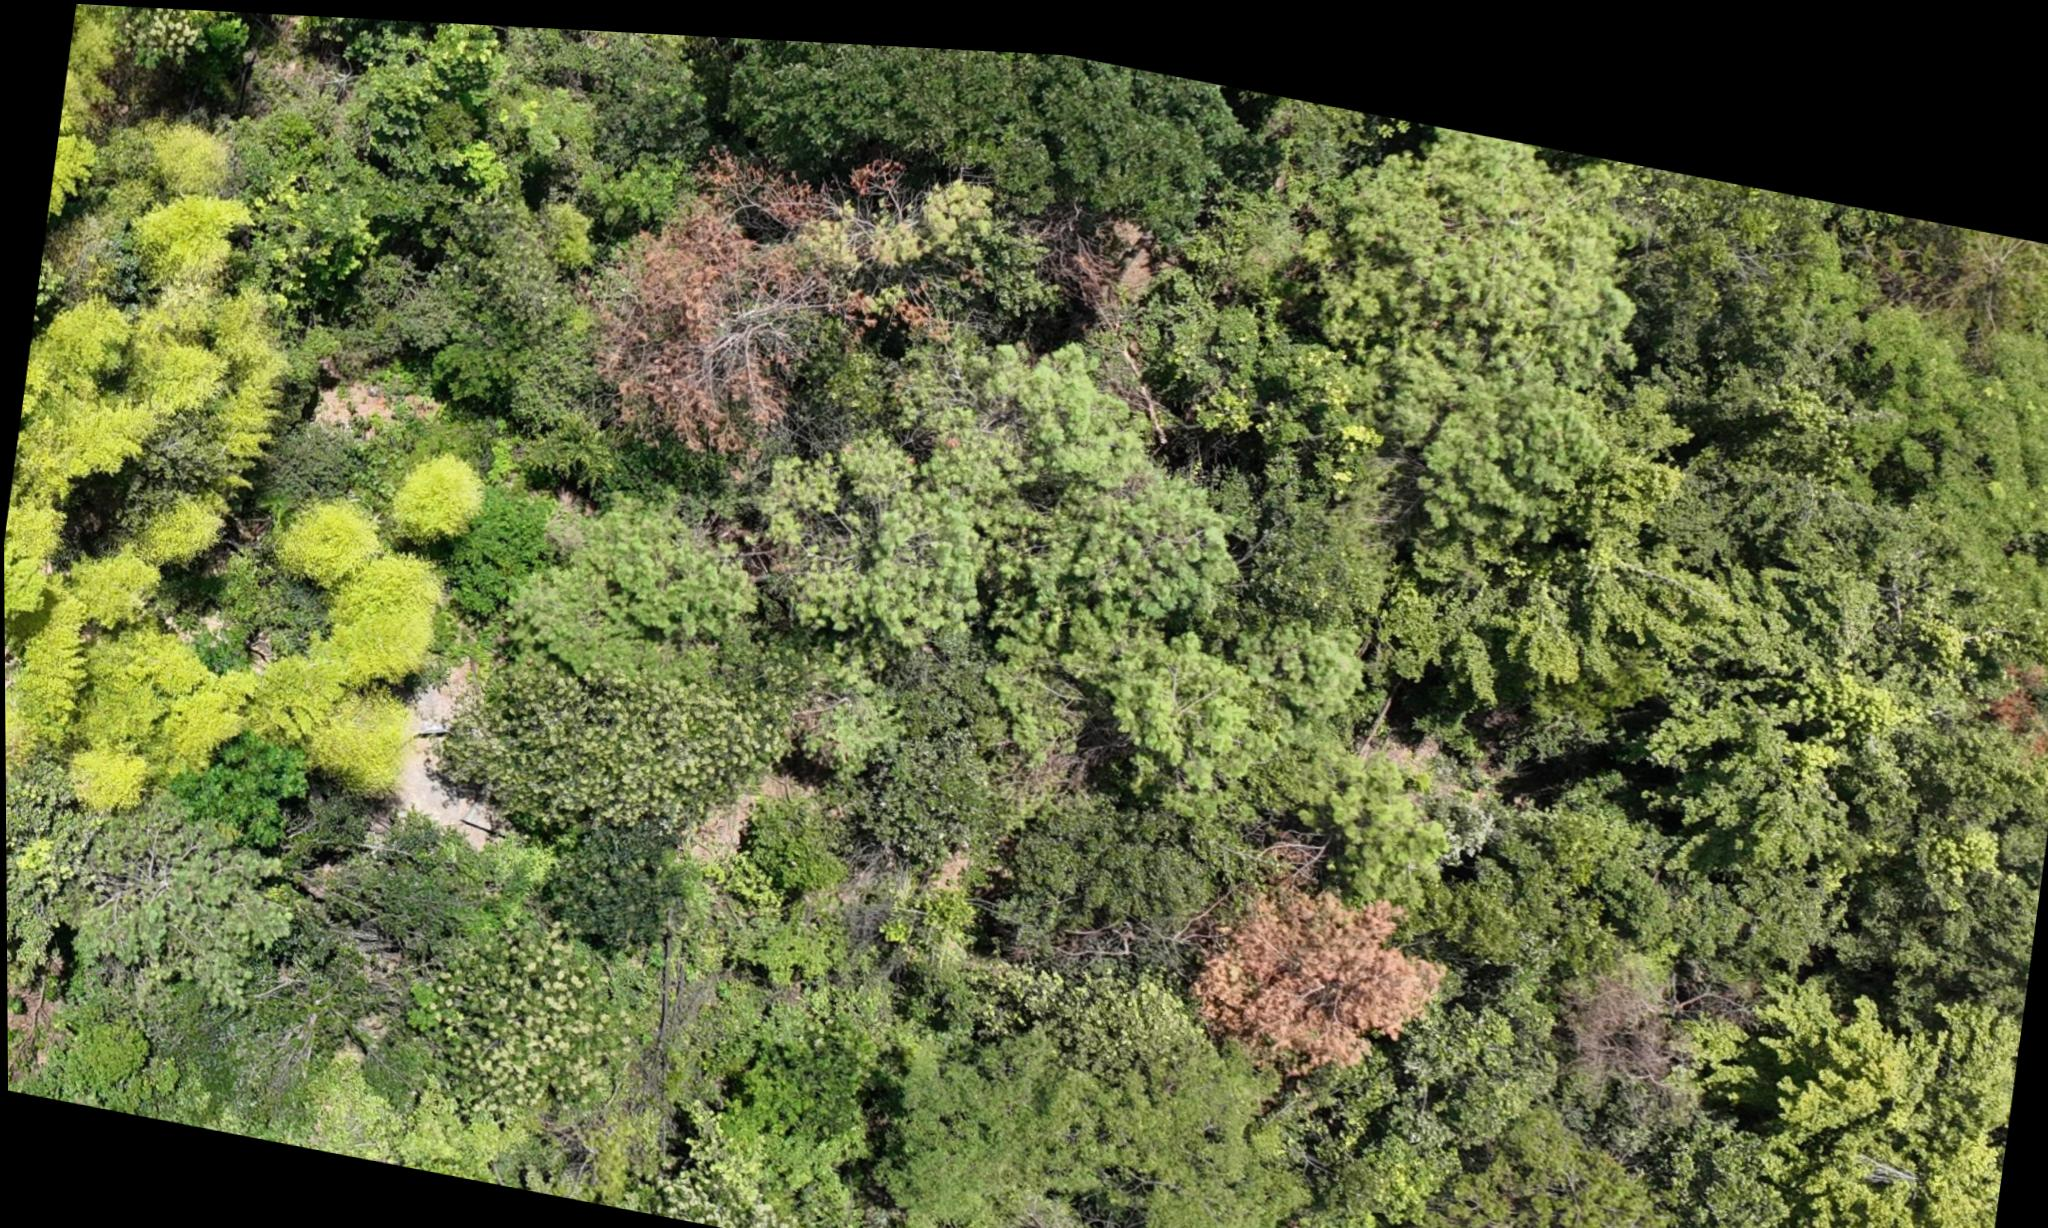dead: (1560, 952, 1697, 1067)
heavy: (589, 189, 843, 441), (1183, 867, 1437, 1048)
